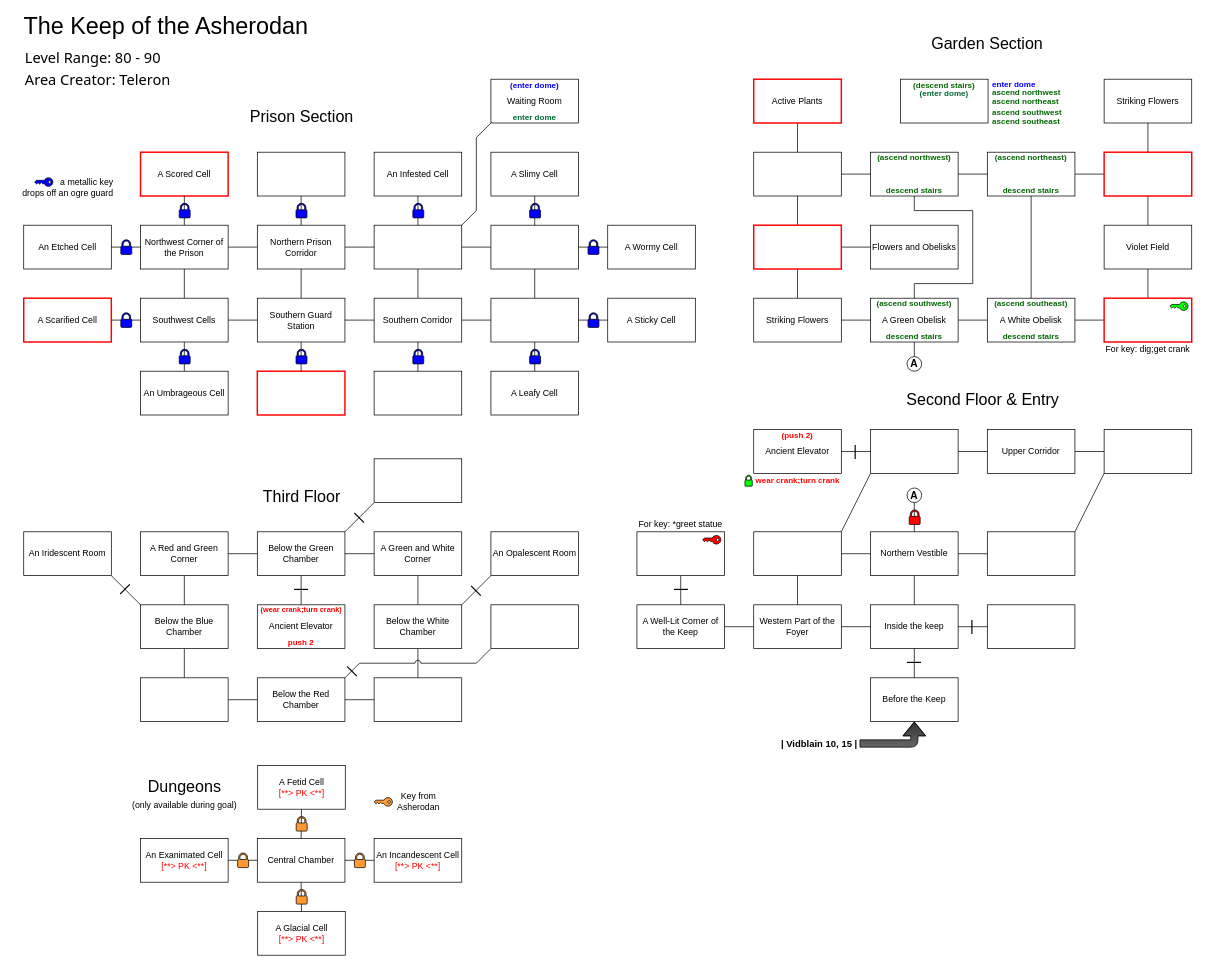
Some shapes in this 1205 by 968 pixel diagram are drawn without their labels. The shapes that lost their labels are listed below. From the top down, each one's box as (x1, y1, x2, y2) in pixels, then its label:
(900, 78, 988, 123): Repulsive Dome
(257, 151, 345, 196): An Overgrown Cell
(753, 151, 841, 196): Purple Paradise
(870, 151, 958, 196): A Blue Obelisk
(987, 151, 1075, 196): A Red Obelisk
(1103, 151, 1192, 196): Overgrown Flowers
(373, 224, 462, 269): Guard Station
(490, 224, 579, 269): Northeast Cells
(753, 224, 842, 269): Floral Passage
(490, 297, 579, 342): Southeast Cells
(1103, 297, 1192, 342): A Creeping Room
(256, 370, 345, 415): A Lacerated Cell
(373, 370, 462, 415): A Draining Cell
(870, 429, 958, 473): An Excellent View
(1103, 429, 1192, 473): Downward Stairs
(373, 458, 462, 503): An Olivine Room
(636, 531, 725, 576): An Uncommon Sculpture
(753, 531, 841, 576): Western Stairs
(987, 531, 1075, 576): Eastern Stairs
(490, 604, 579, 649): A Deep Red Room
(987, 604, 1075, 649): Moorerry's Office
(140, 677, 228, 722): A Red and Blue Corner
(373, 677, 462, 722): A Red and White Corner
